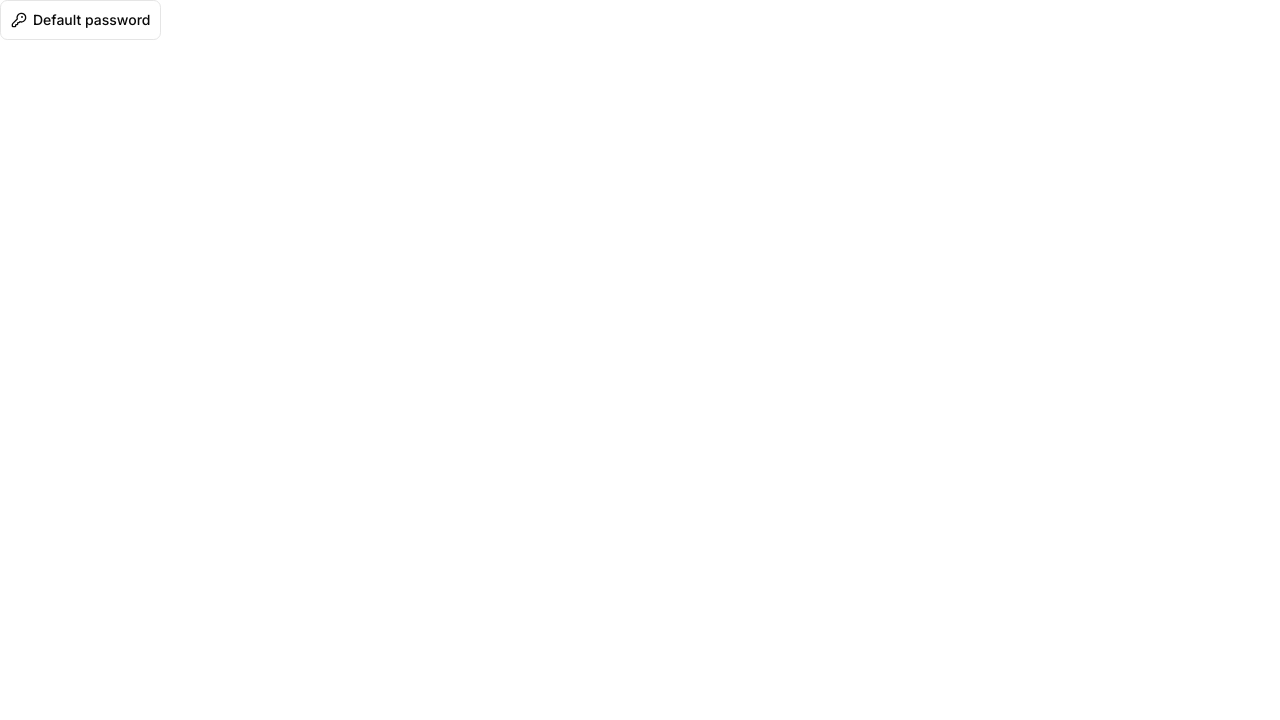
Test: default staff password › requires matching confirmation before saving
The image size is (1280, 720).
Step 1. Click the button "Default password" → point(81, 20), box [0, 0, 162, 40]
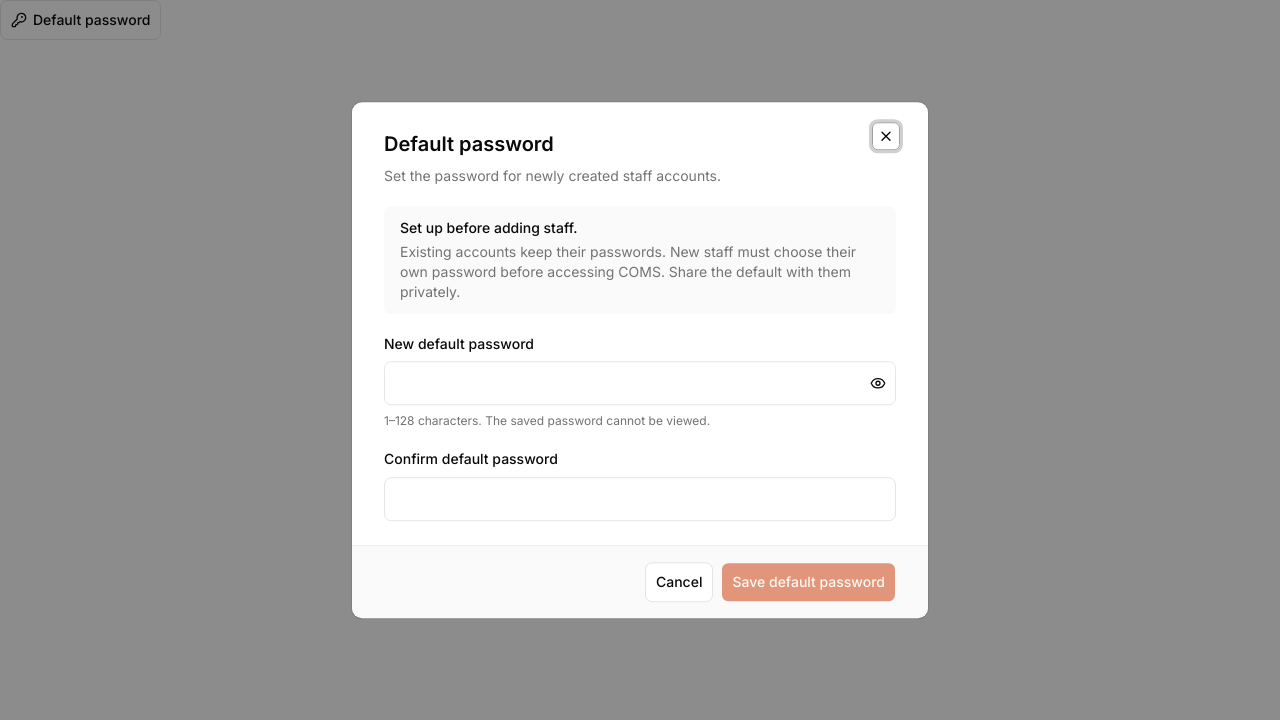
Step 2. Type "short" into the password field labelled "New default password" → point(640, 384), box [384, 362, 896, 406]
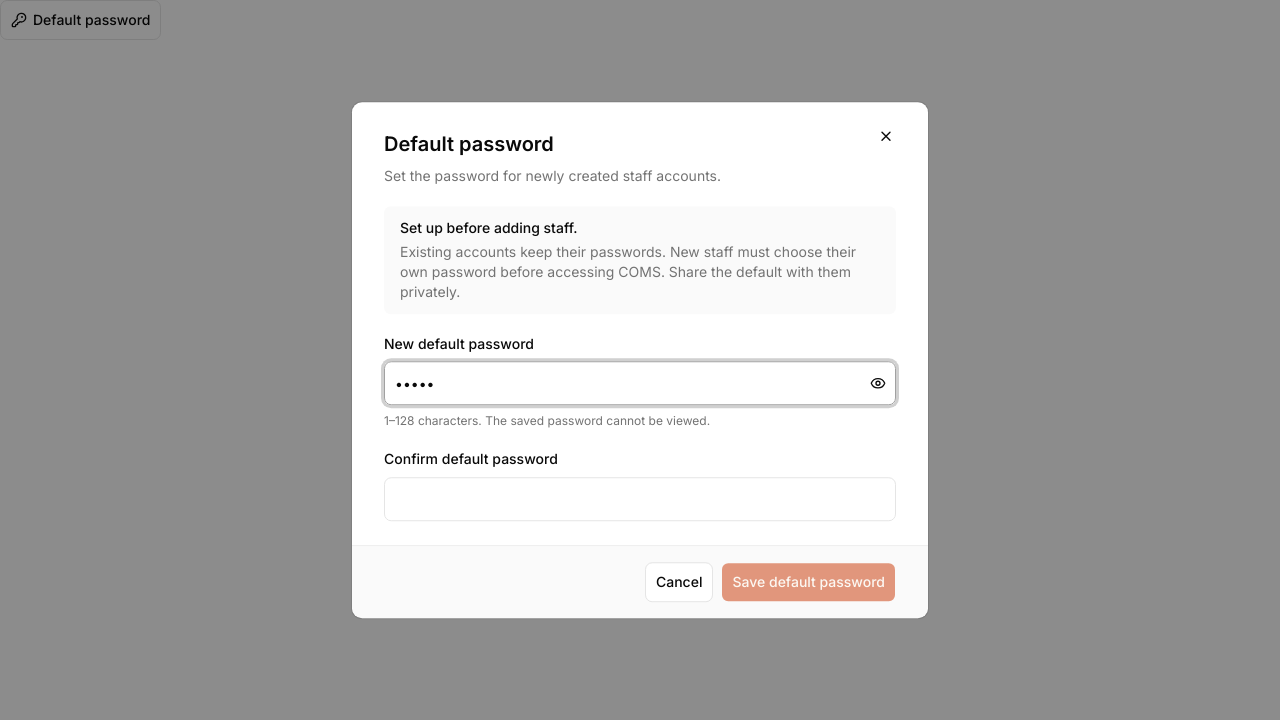
Step 3. Type "different" into the password field labelled "Confirm default password" → point(640, 499), box [384, 477, 896, 521]
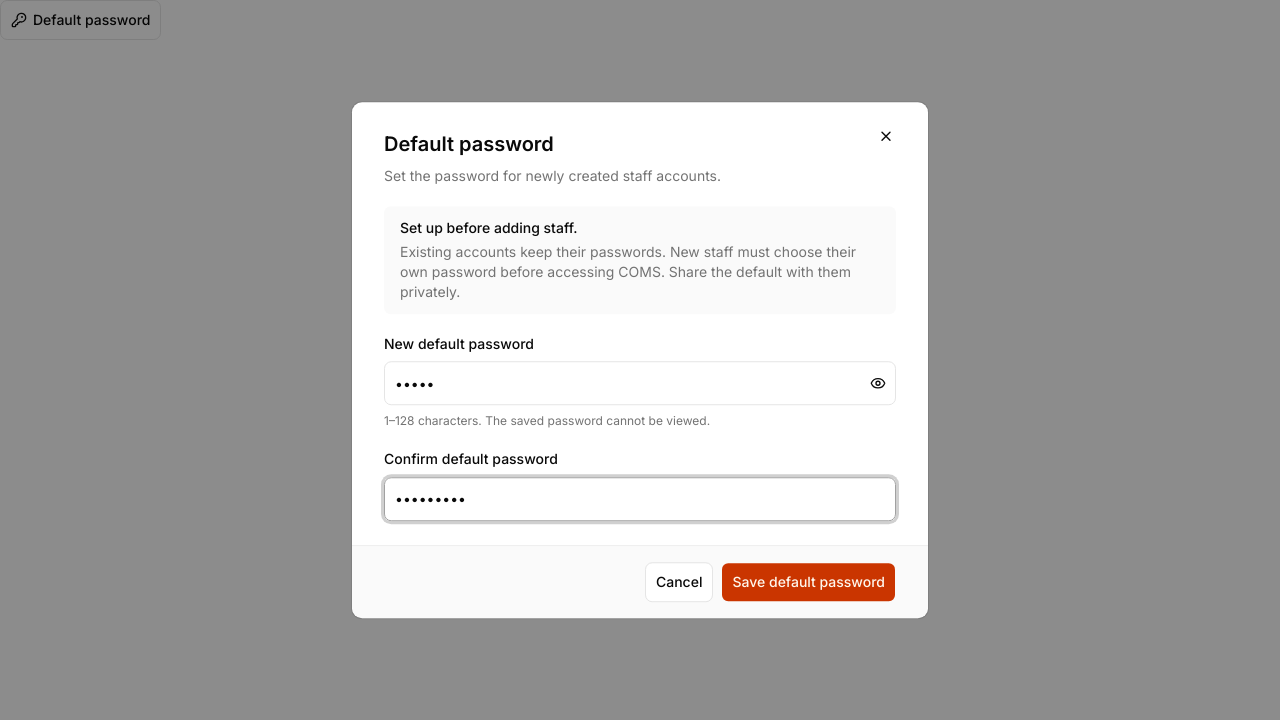
Step 4. Click the button "Save default password" → point(809, 582), box [722, 562, 896, 602]
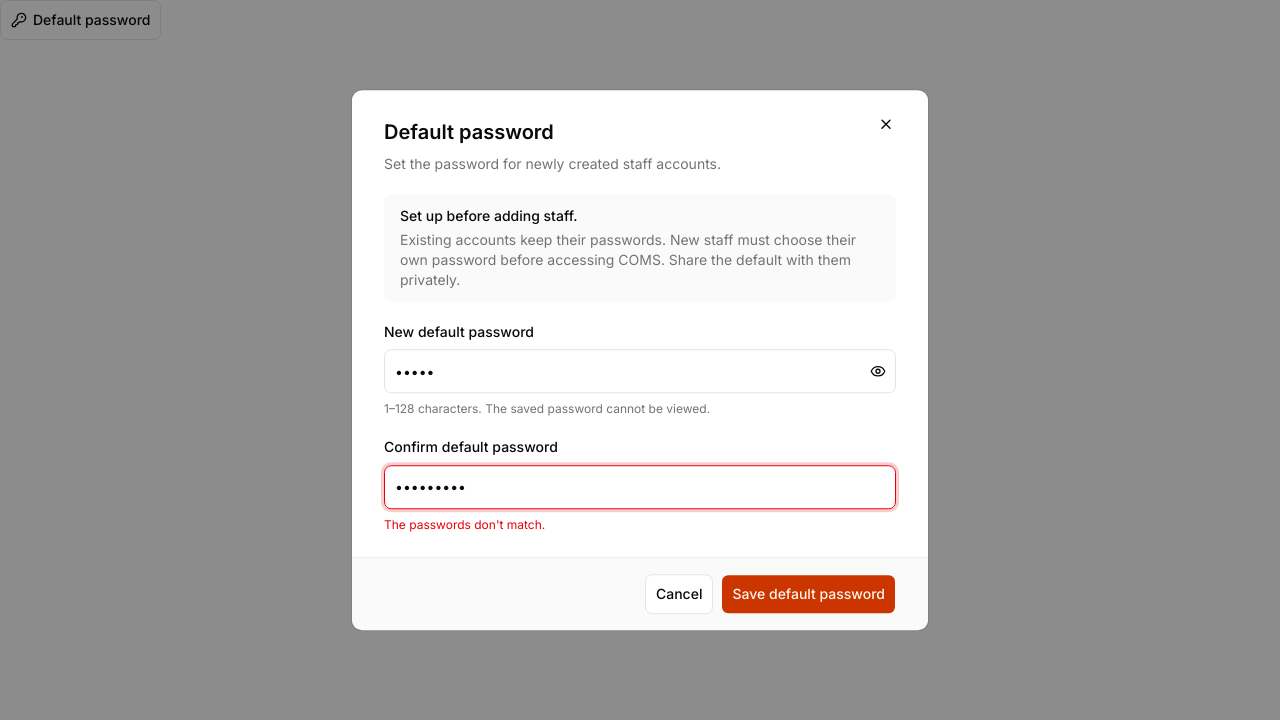
Check: the text "The passwords don't match." is shown, box [384, 517, 545, 532]
